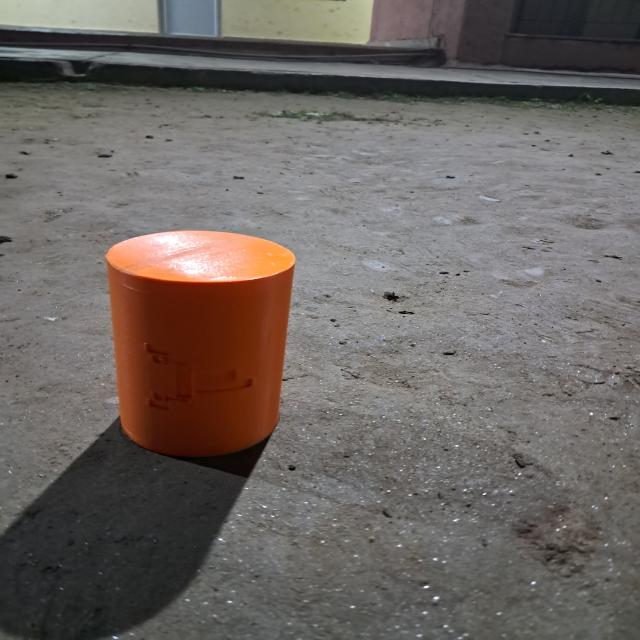Cylinder: (104, 228, 296, 458)
